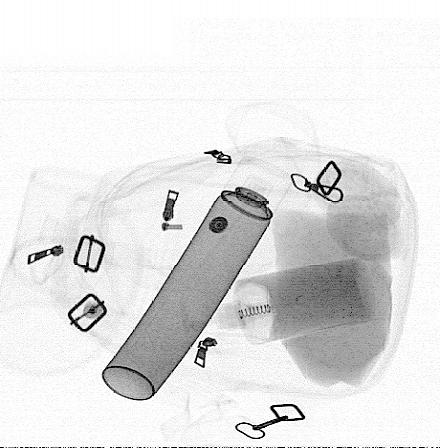Sprayer: (102, 154, 294, 402)
